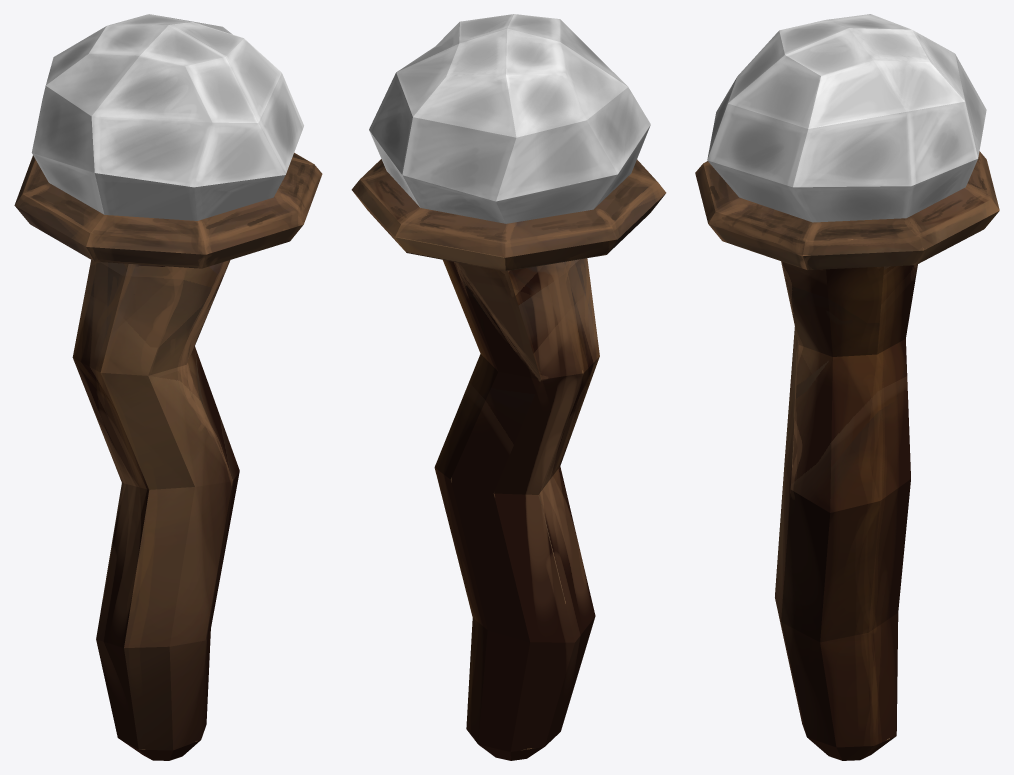
The model's file is MagicRodDrawn.fbx.
The picture shows the model from 3 angles, left to right: view 1: azimuth 30°, elevation 25°; view 2: azimuth 150°, elevation 25°; view 3: azimuth 270°, elevation 25°; orthographic projection.
Parts seen in each view (by area): view 1: Red3Random; view 2: Red3Random; view 3: Red3Random.
Boxes of the visible parts, x1=… form: Red3Random: x1=14, y1=14, x2=322, y2=760; Red3Random: x1=351, y1=14, x2=666, y2=760; Red3Random: x1=695, y1=14, x2=999, y2=760.
Size of the model in its own units: 200 by 527 by 200.
Materials: 2 (2 with a texture image).
